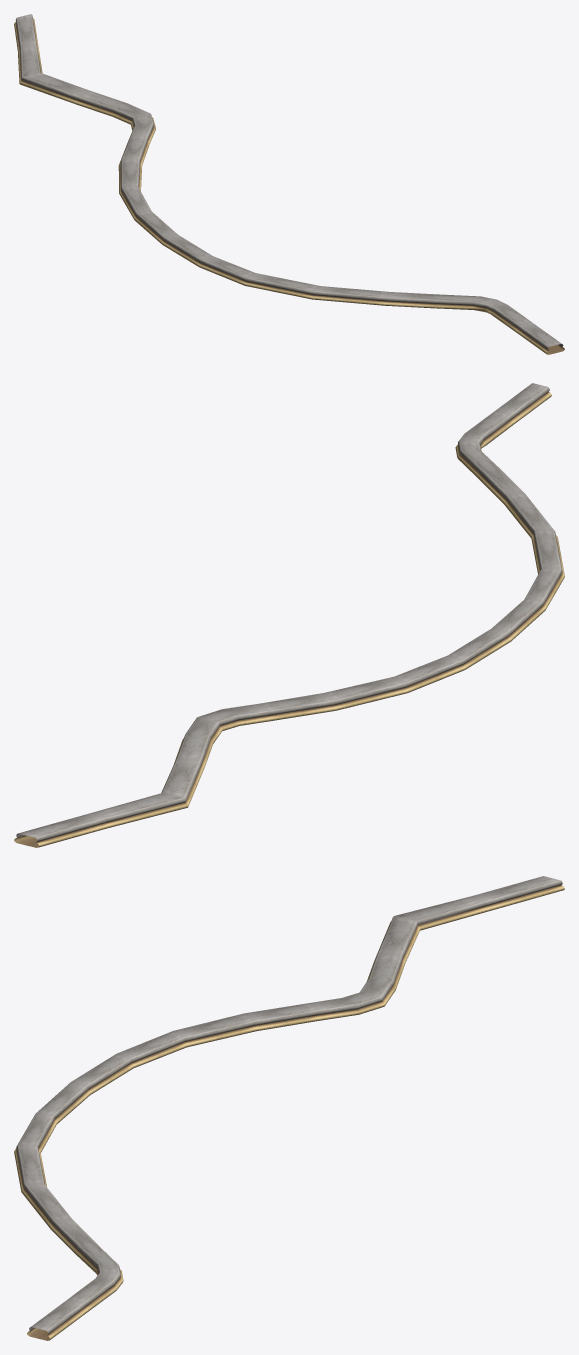
The model's file is Main_Pillars_04_03.FBX.
3 views of the same model, one above another, from view 1: azimuth 30°, elevation 25°; view 2: azimuth 150°, elevation 25°; view 3: azimuth 330°, elevation 25° (orthographic). The views are drawn at different scales.
Parts seen in each view (by area): view 1: Main_Pillars_04_03; view 2: Main_Pillars_04_03; view 3: Main_Pillars_04_03.
Boxes of the visible parts, x1,y1,x2,y2 form: Main_Pillars_04_03: (14, 14, 564, 354); Main_Pillars_04_03: (14, 383, 564, 847); Main_Pillars_04_03: (14, 876, 564, 1340).
Bounding box in the file's own units: 8.87 × 0.3439 × 37.16.
